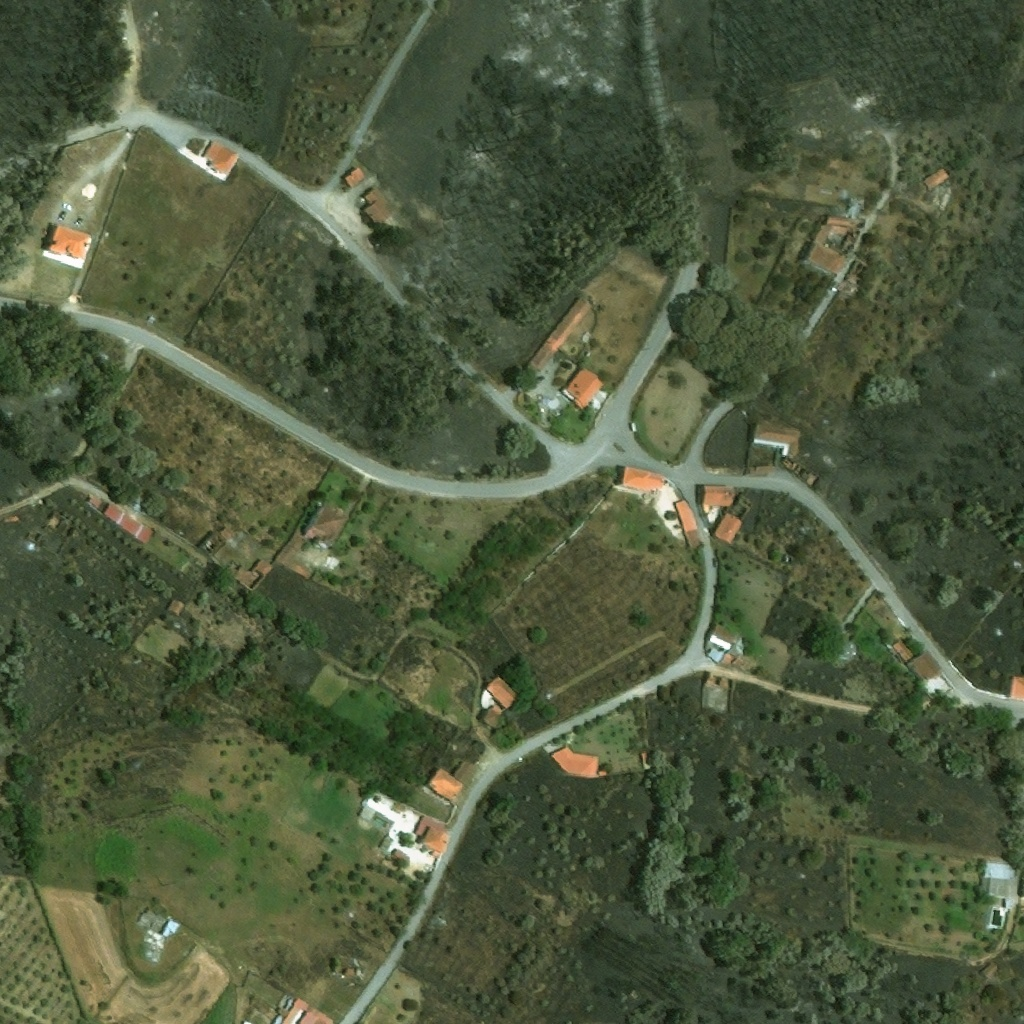0 no-damage: (526, 296, 593, 373), (305, 504, 349, 548), (276, 532, 314, 581), (225, 558, 273, 593), (566, 368, 604, 410), (49, 223, 94, 258), (485, 673, 521, 710), (428, 767, 466, 802), (674, 500, 699, 549), (202, 140, 239, 173), (362, 189, 395, 226), (549, 749, 592, 777), (906, 651, 940, 686), (989, 876, 1019, 909), (623, 466, 661, 492), (414, 824, 449, 852), (754, 423, 798, 445), (712, 513, 742, 544), (199, 530, 230, 560), (702, 485, 733, 508), (126, 490, 153, 516), (921, 167, 949, 192), (334, 959, 370, 978), (450, 758, 476, 783), (482, 706, 508, 731), (983, 860, 1019, 878), (297, 1006, 334, 1023), (282, 998, 307, 1023), (838, 632, 859, 661), (892, 638, 915, 664), (273, 995, 294, 1023), (343, 167, 367, 189), (712, 624, 737, 644), (118, 513, 140, 535), (104, 504, 125, 524), (708, 634, 731, 651), (134, 523, 152, 544), (706, 645, 724, 664), (161, 918, 178, 938), (1009, 675, 1023, 699), (727, 639, 743, 657), (481, 689, 495, 709), (981, 963, 998, 979), (719, 652, 735, 669), (358, 806, 375, 821), (640, 751, 653, 770), (167, 600, 183, 615), (394, 849, 411, 862), (755, 465, 774, 476), (89, 496, 102, 506), (220, 528, 230, 538)
2 major-damage: (806, 216, 866, 276), (848, 199, 871, 220)
3 destroyed: (837, 258, 867, 295), (706, 670, 735, 692), (729, 651, 754, 674), (789, 461, 812, 482), (805, 472, 821, 490), (781, 454, 795, 469)
